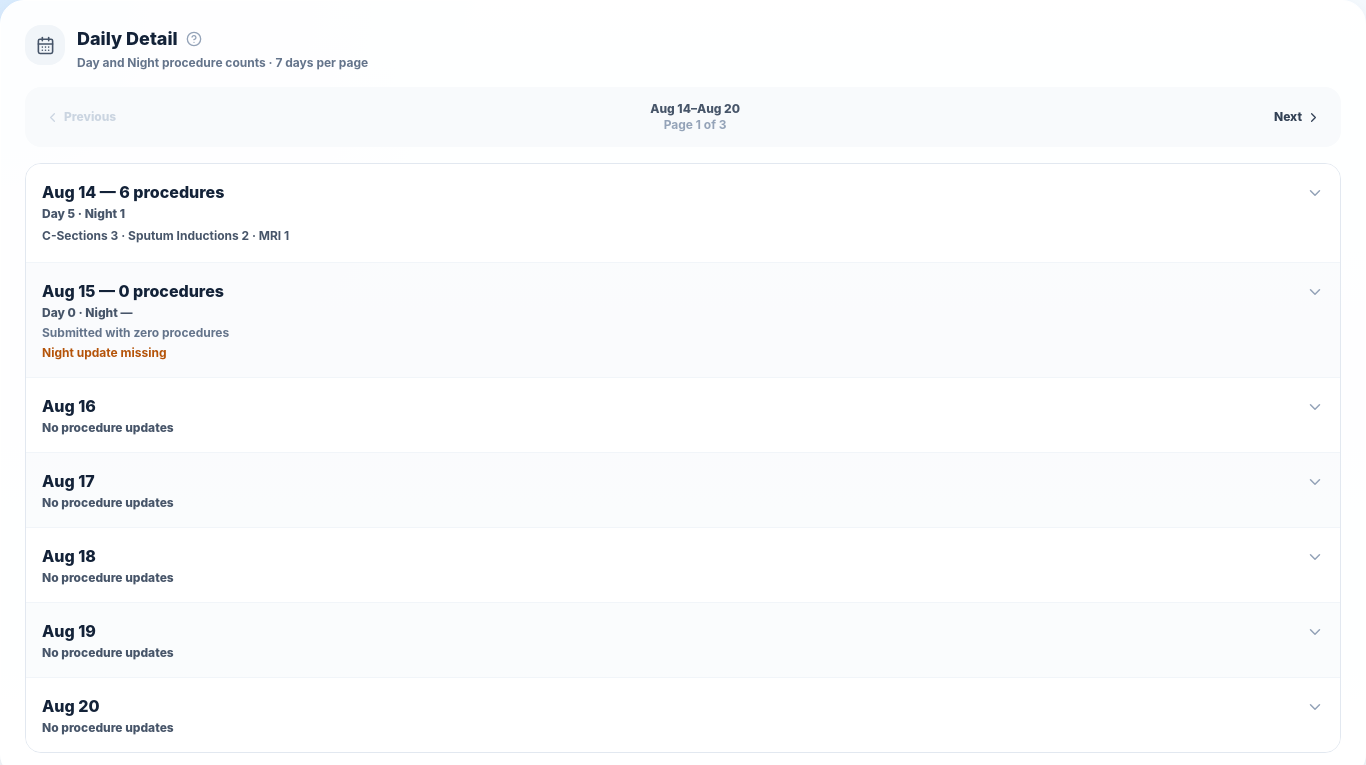
ProcedureDailyDetail › keeps collapsed rows compact and expands one full Day/Night audit at a time
Click the button "Aug 14 — 6 procedures". click: click(69, 192)
box: 26,164 -> 1340,262
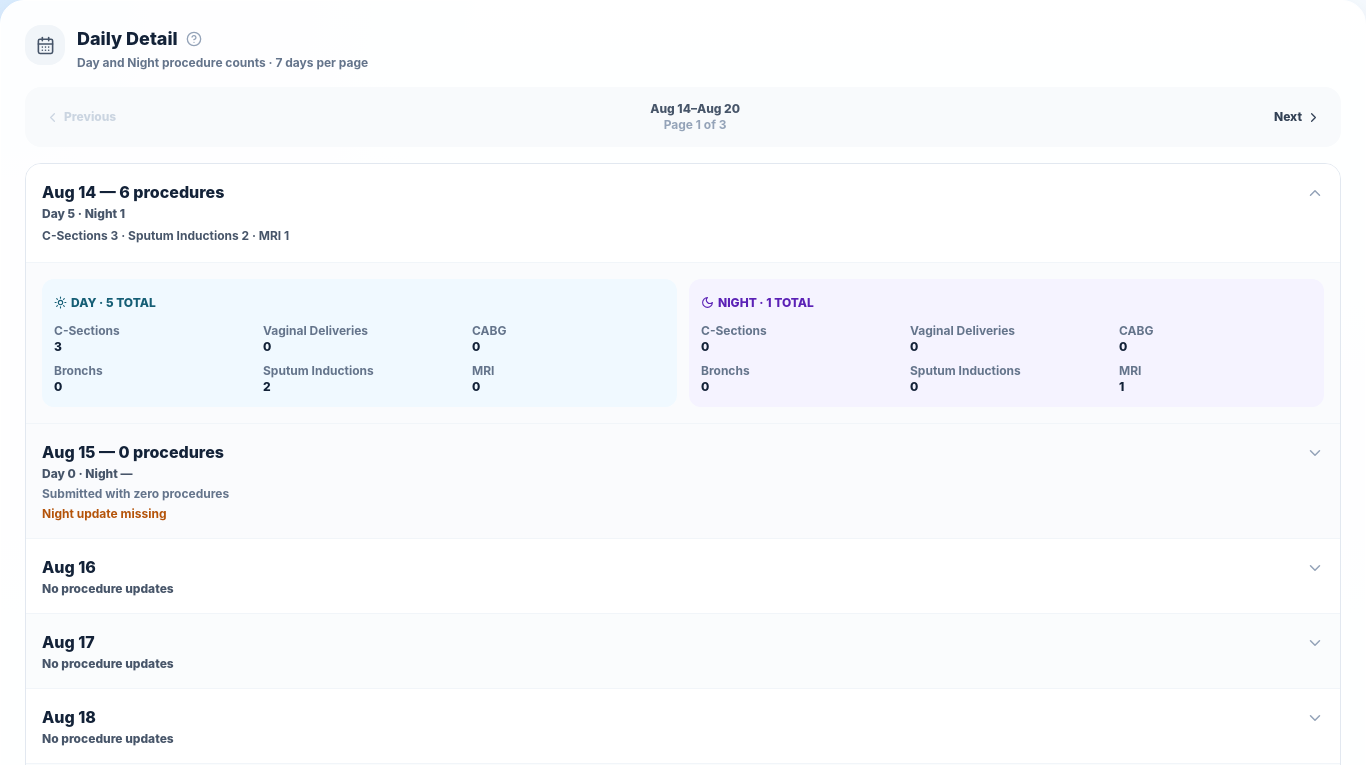
expect the 1st text "CABG" is shown: met, box 472,323 -> 506,338
expect the 1st text "0" is shown: met, box 263,339 -> 271,354
expect the element named "Aug 14 Night shift detail" is shown: met, box 689,279 -> 1324,407
Click the button "Aug 15 — 0 procedures". click: click(69, 452)
box: 26,424 -> 1340,538
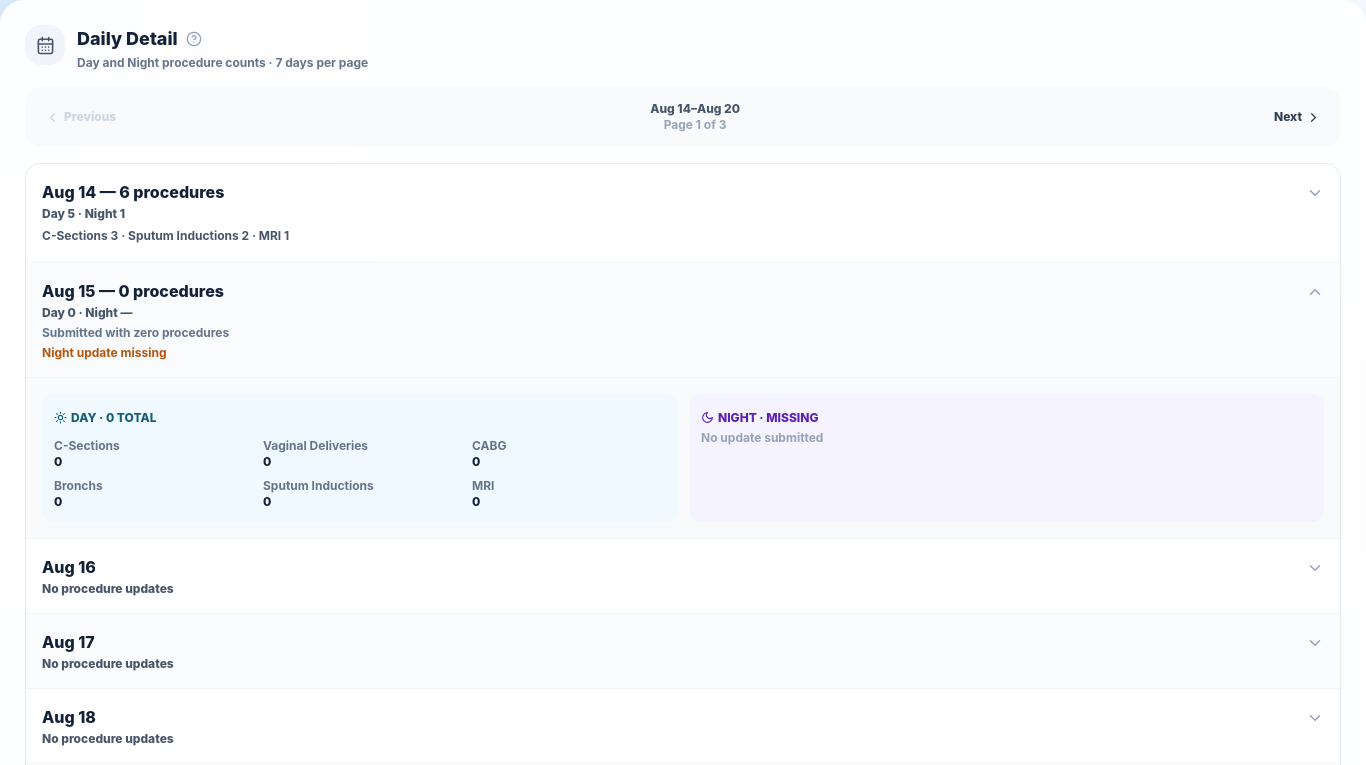
expect the element named "Aug 15 Day shift detail" is shown: met, box 42,394 -> 677,522
